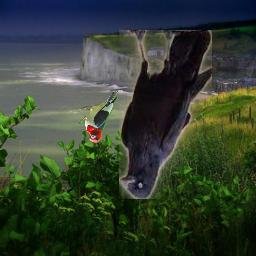Crow: (119, 30, 212, 199)
Woodpecker: (79, 91, 119, 143)
